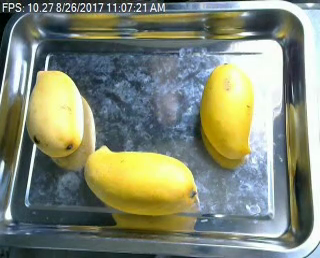Mango: (83, 143, 200, 217), (198, 61, 254, 162), (22, 66, 84, 157)
